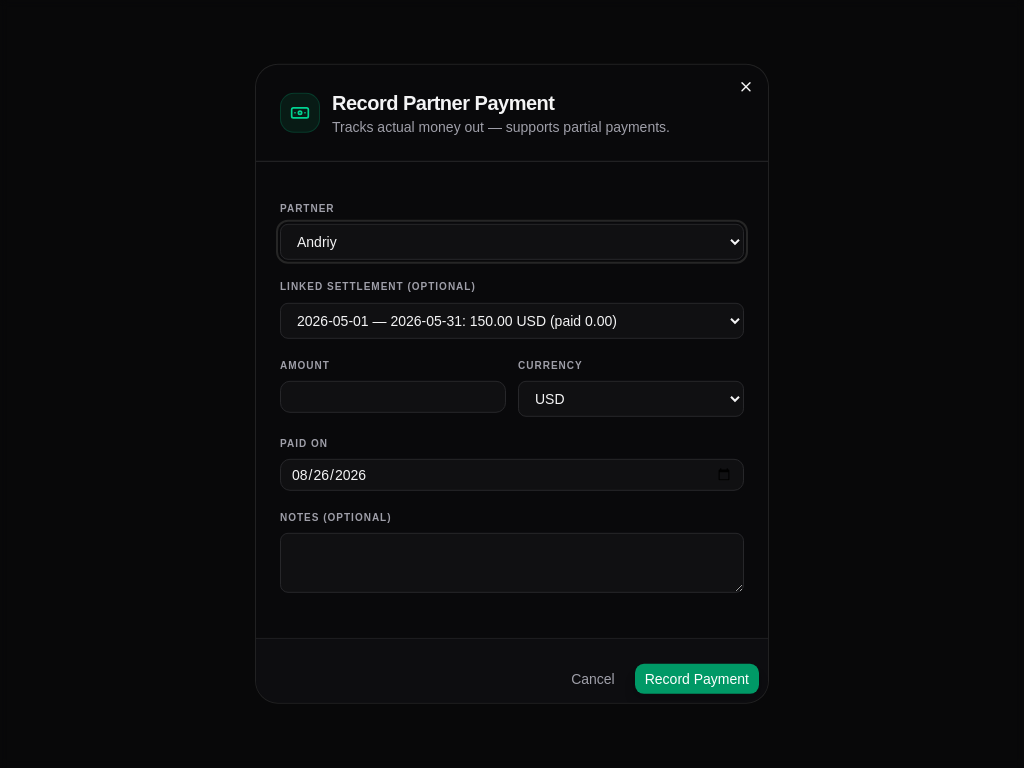
Test case: RecordPaymentModal › shows currency-mismatch warning when payment currency differs from linked settlement
expect the text "Currency differs from linked settlement" is not shown: met
Select "UAH" in the dropdown below "Currency" at (631, 399), box [518, 381, 744, 417]
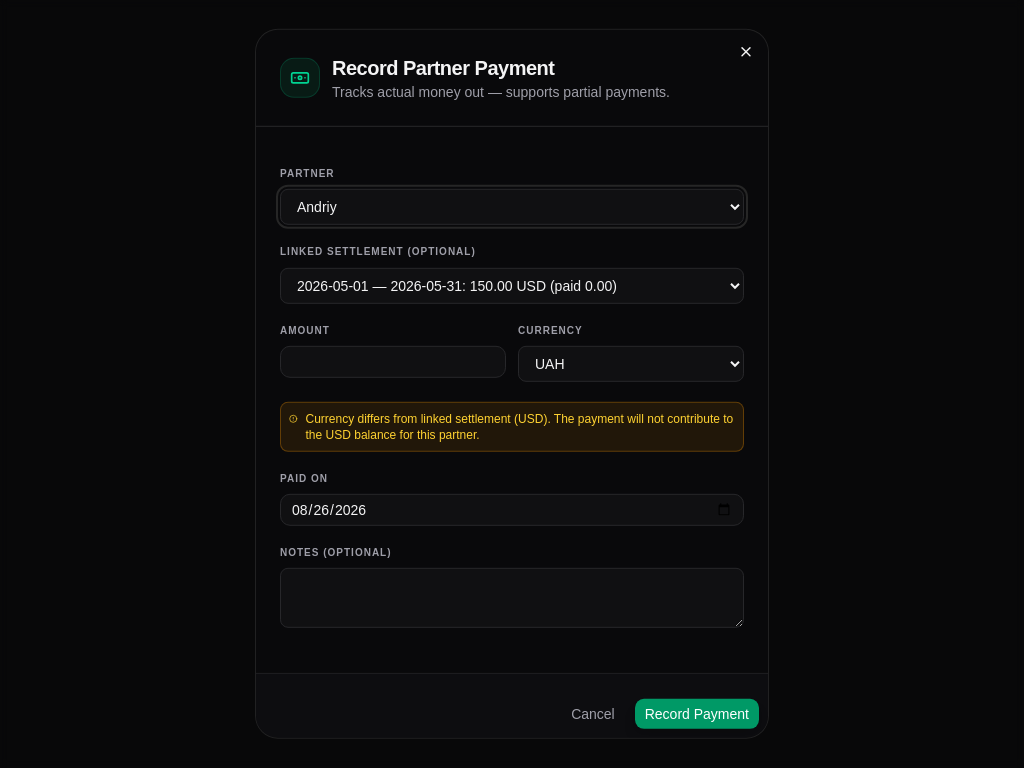
expect the text "Currency differs from linked settlement" is shown: met, box [306, 412, 518, 426]
